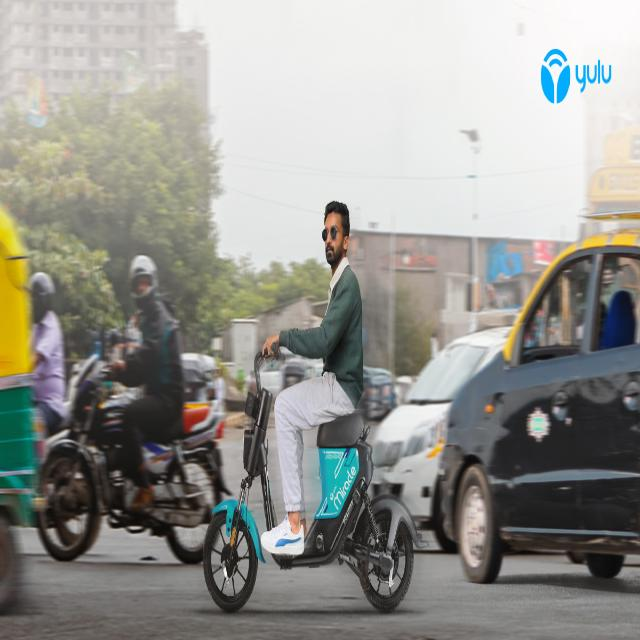car: (440, 234, 640, 582)
motorcycle: (204, 201, 419, 611)
